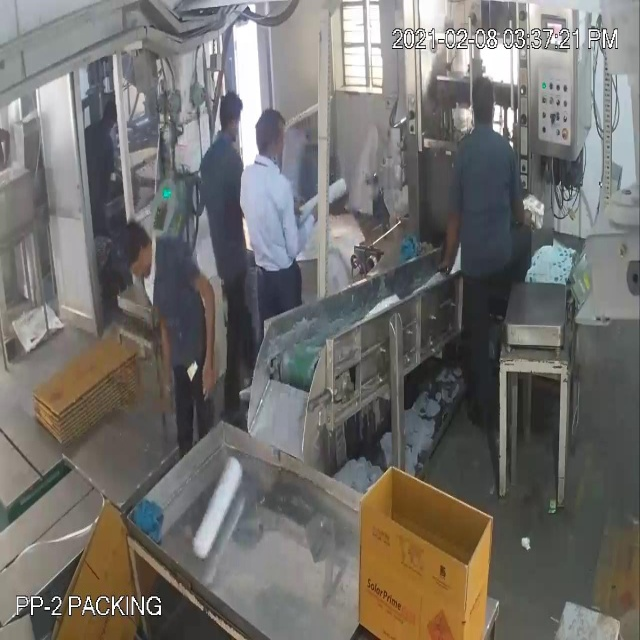Sin_guantes: (189, 249, 222, 396), (147, 295, 180, 429)
